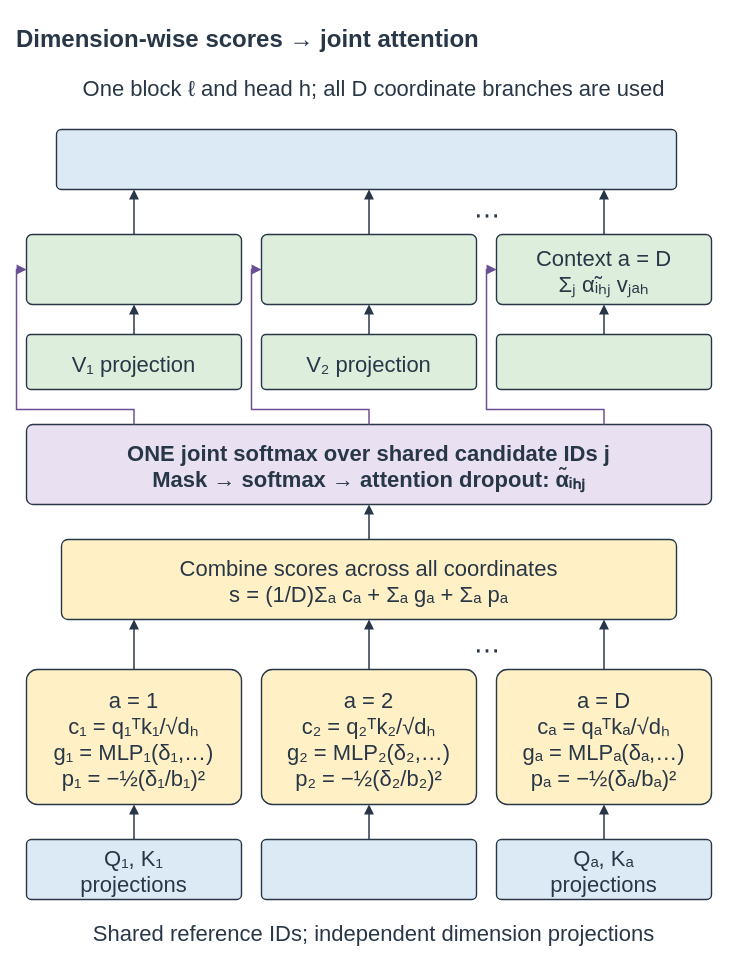
Some shapes in this 748 by 965 pixel diagram are drawn without their labels. The centre of each missing label's shape, as x and y in pixels:
Concatenate all a,h → output projection: the point at 366,159
Context a = 1 Σⱼ α̃ᵢₕⱼ vⱼ₁ₕ: the point at 133,269
Context a = 2 Σⱼ α̃ᵢₕⱼ vⱼ₂ₕ: the point at 368,269
Q₂, K₂ projections: the point at 368,869
Vₐ projection: the point at 603,361
